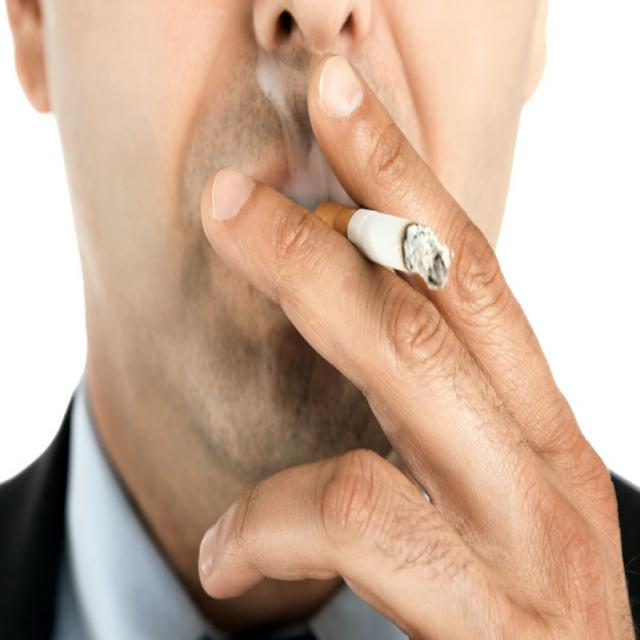smoking: (312, 198, 453, 288)
